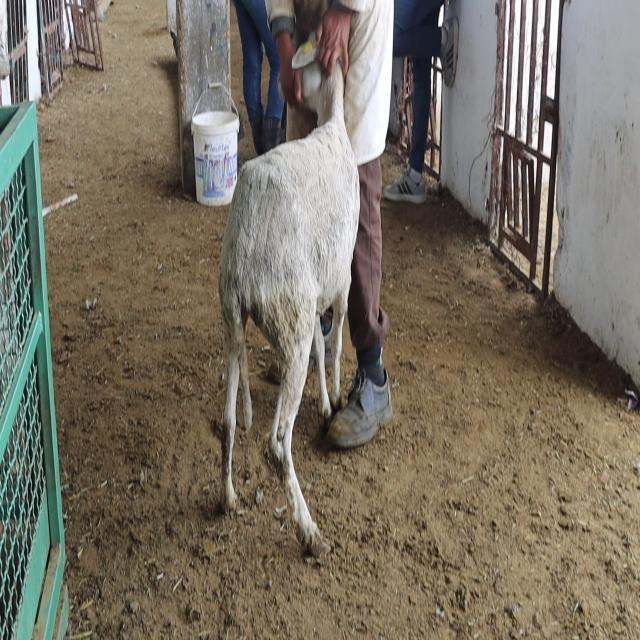Score_3: (219, 29, 360, 554)
